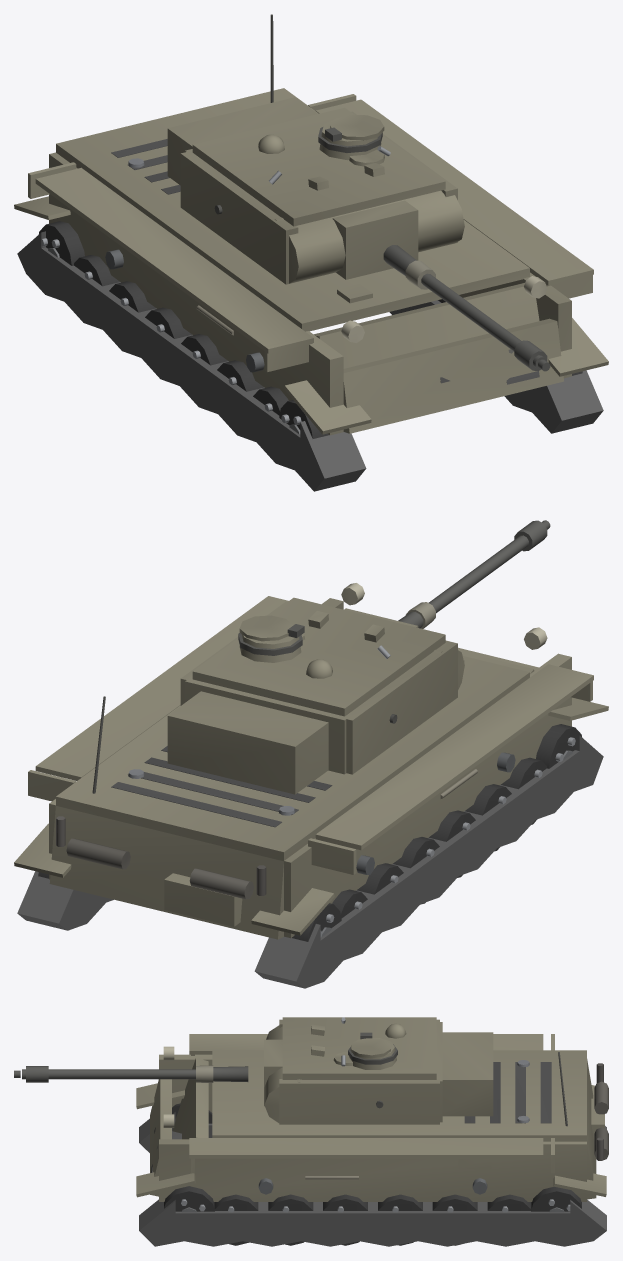
The model's file is vickersmbt.glb.
The picture shows the model from 3 angles, top to bottom: view 1: azimuth 30°, elevation 25°; view 2: azimuth 150°, elevation 25°; view 3: azimuth 270°, elevation 25°; orthographic projection. The views are drawn at different scales.
Parts seen in each view (by area): view 1: hullSide, tracks, hullTop, turretRoof, lowerPlate, turretFront, glacis, turretSide, mantlet, barrel, wheel7, wheel3 (+5 smaller); view 2: hullSide, hullTop, tracks, hullRear, turretRoof, turretFront, turretSide, barrel, turretRear, wheel6, wheel4, wheel5 (+4 smaller); view 3: hullSide, tracks, hullTop, turretRoof, turretSide, turretFront, barrel, hullRear, glacis, lowerPlate, wheel14, wheel15 (+8 smaller).
Part boxes in pixels (x1,y1,x2,y2): hullSide: (28, 94, 593, 435); tracks: (14, 196, 608, 491); hullTop: (56, 88, 529, 331); turretRoof: (192, 107, 445, 226); lowerPlate: (343, 318, 563, 433); turretFront: (167, 97, 464, 283); glacis: (314, 283, 539, 384); turretSide: (180, 111, 457, 284); mantlet: (332, 200, 418, 279); barrel: (383, 245, 550, 371); wheel7: (38, 221, 84, 265); wheel3: (181, 334, 227, 365); hullSide: (28, 583, 593, 938); hullTop: (56, 656, 529, 860); tracks: (14, 697, 608, 988); hullRear: (49, 696, 284, 939); turretRoof: (192, 597, 445, 716); turretFront: (167, 649, 464, 794); turretSide: (180, 601, 457, 774); barrel: (398, 520, 550, 628); turretRear: (185, 676, 351, 774); wheel6: (536, 724, 581, 768); wheel4: (465, 784, 511, 851); wheel5: (501, 757, 546, 824); hullSide: (159, 1034, 586, 1201); tracks: (136, 1083, 606, 1246); hullTop: (212, 1050, 586, 1141); turretRoof: (282, 1017, 436, 1079); turretSide: (279, 1019, 439, 1124); turretFront: (264, 1025, 493, 1122); barrel: (14, 1065, 248, 1082); hullRear: (558, 1052, 608, 1199); glacis: (151, 1058, 208, 1172); lowerPlate: (150, 1079, 171, 1196); wheel14: (164, 1186, 214, 1212); wheel15: (531, 1186, 581, 1212).
Bounding box in the file's own units: 4.28 × 2.9 × 8.9.
